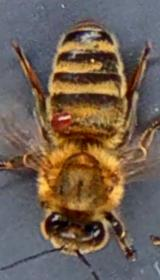varroa_mite: (44, 100, 80, 140)
